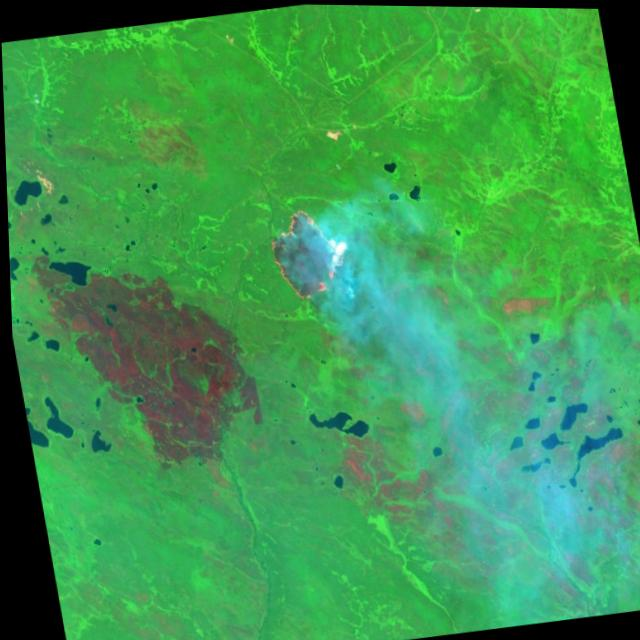fire: (254, 195, 355, 315)
